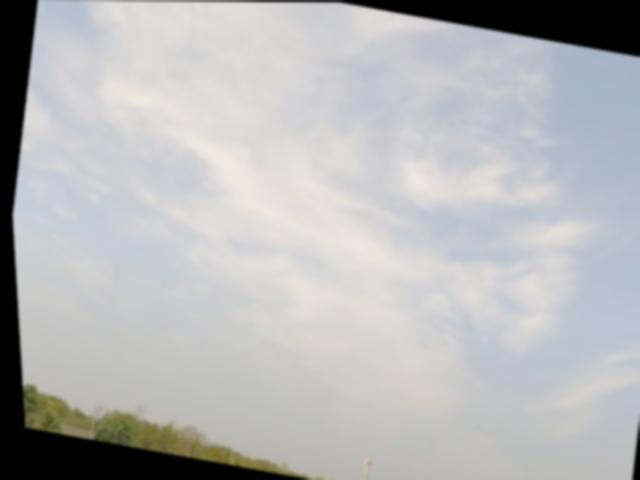iha: (299, 328, 310, 339)
